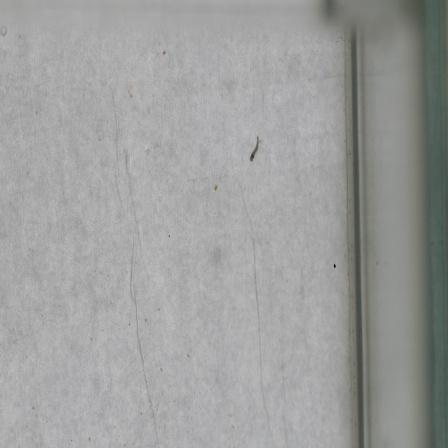Jentik-Nyamuk: (246, 131, 263, 168)
